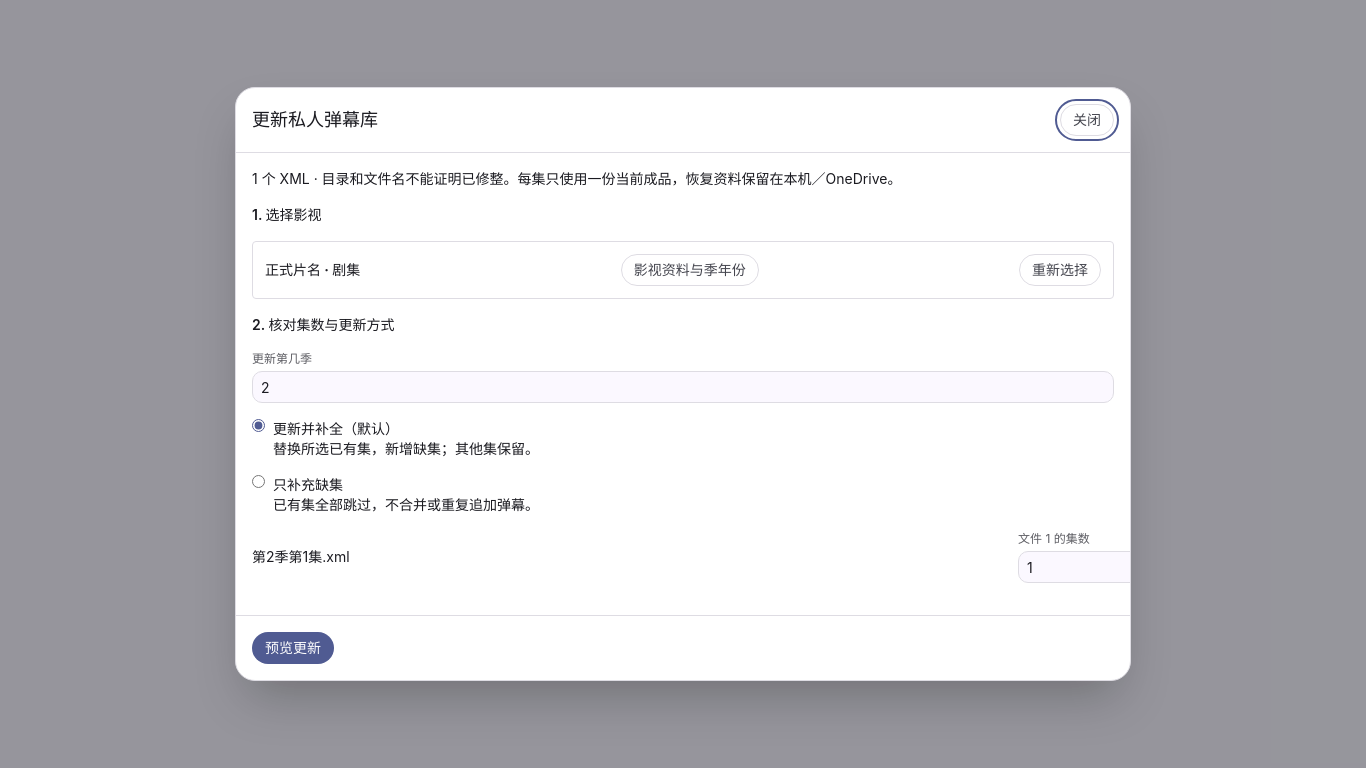
Test: previews replacement and requires an explicit content check before storing and listing the same episode
Click the button "预览更新": (293, 648) [252,632,334,664]
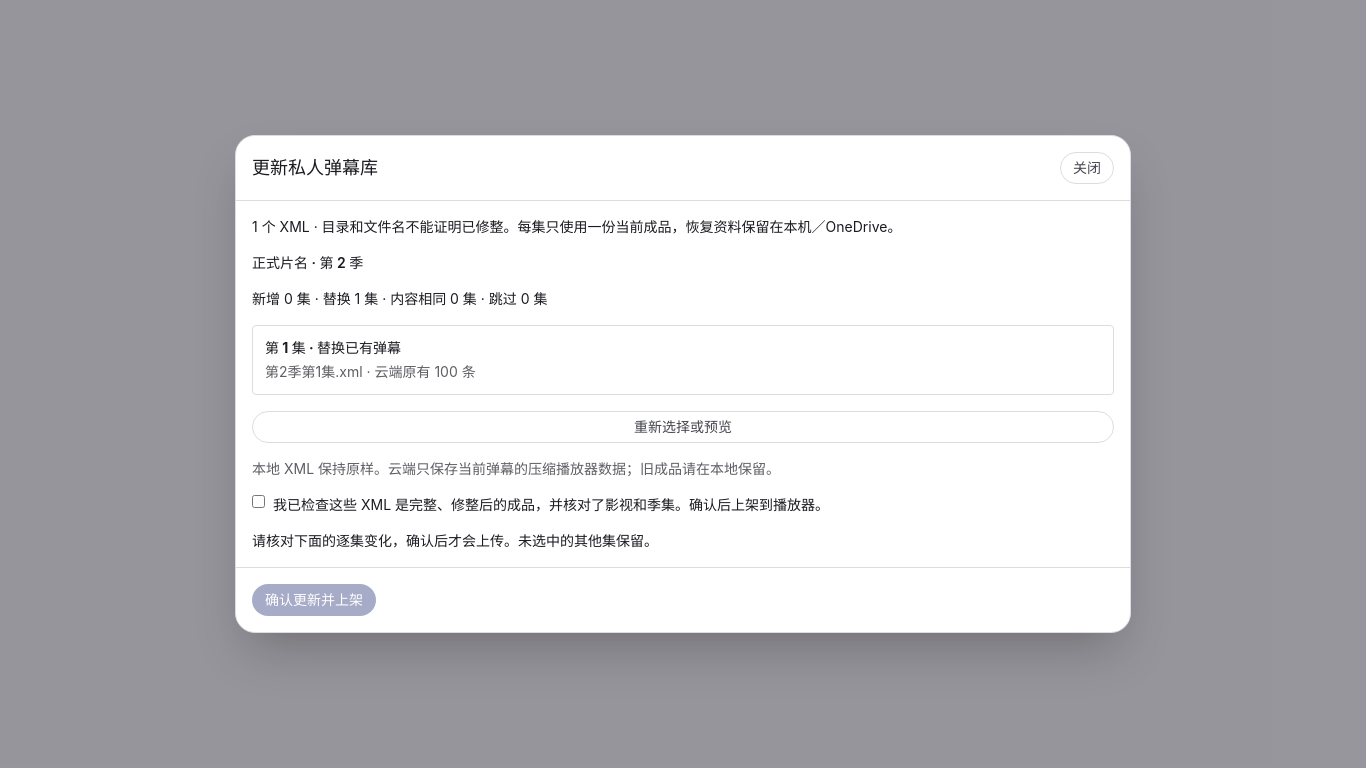
Result: the text "第 1 集 · 替换已有弹幕" is shown at [265,339,401,356]
Result: the button "确认更新并上架" is disabled at [252,584,376,616]
Click the checkbox: (258, 502) [252,495,265,508]
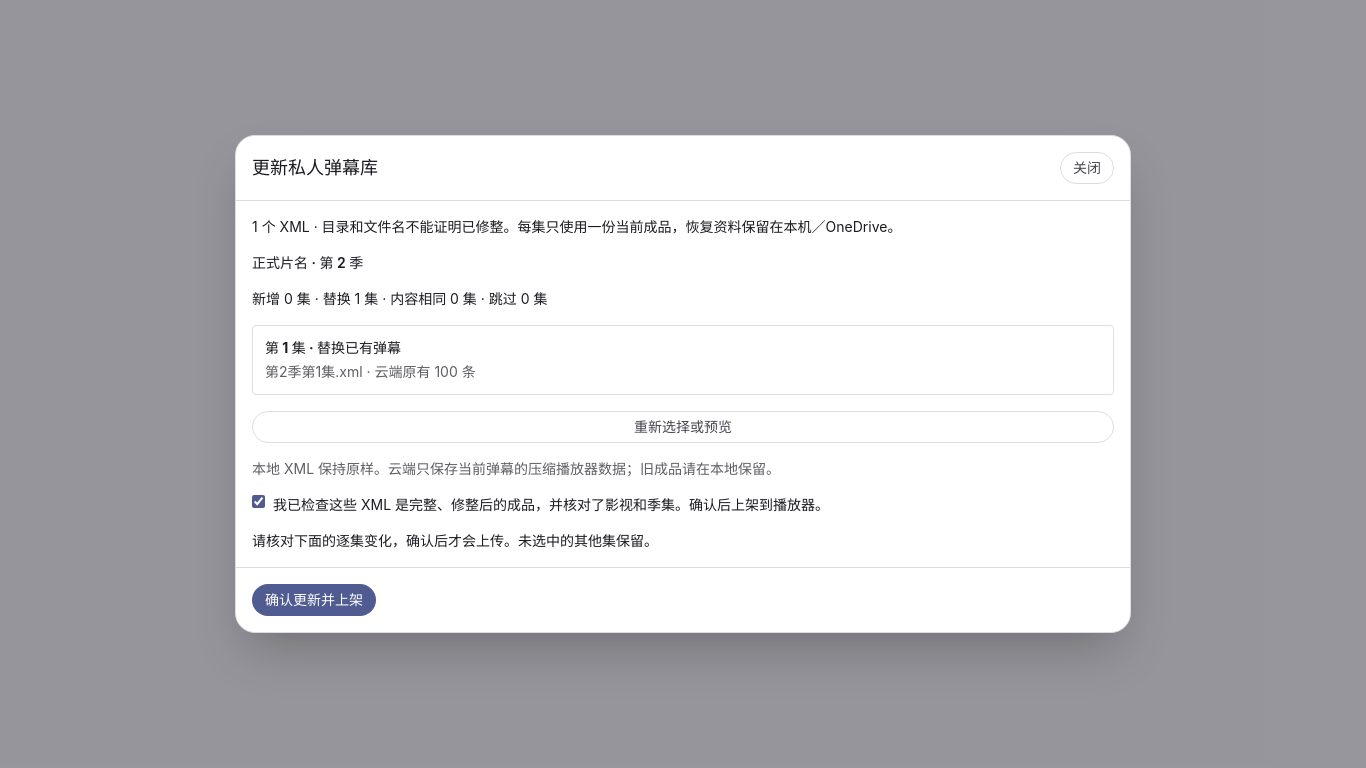
Click the button "确认更新并上架": (314, 600) [252,584,376,616]
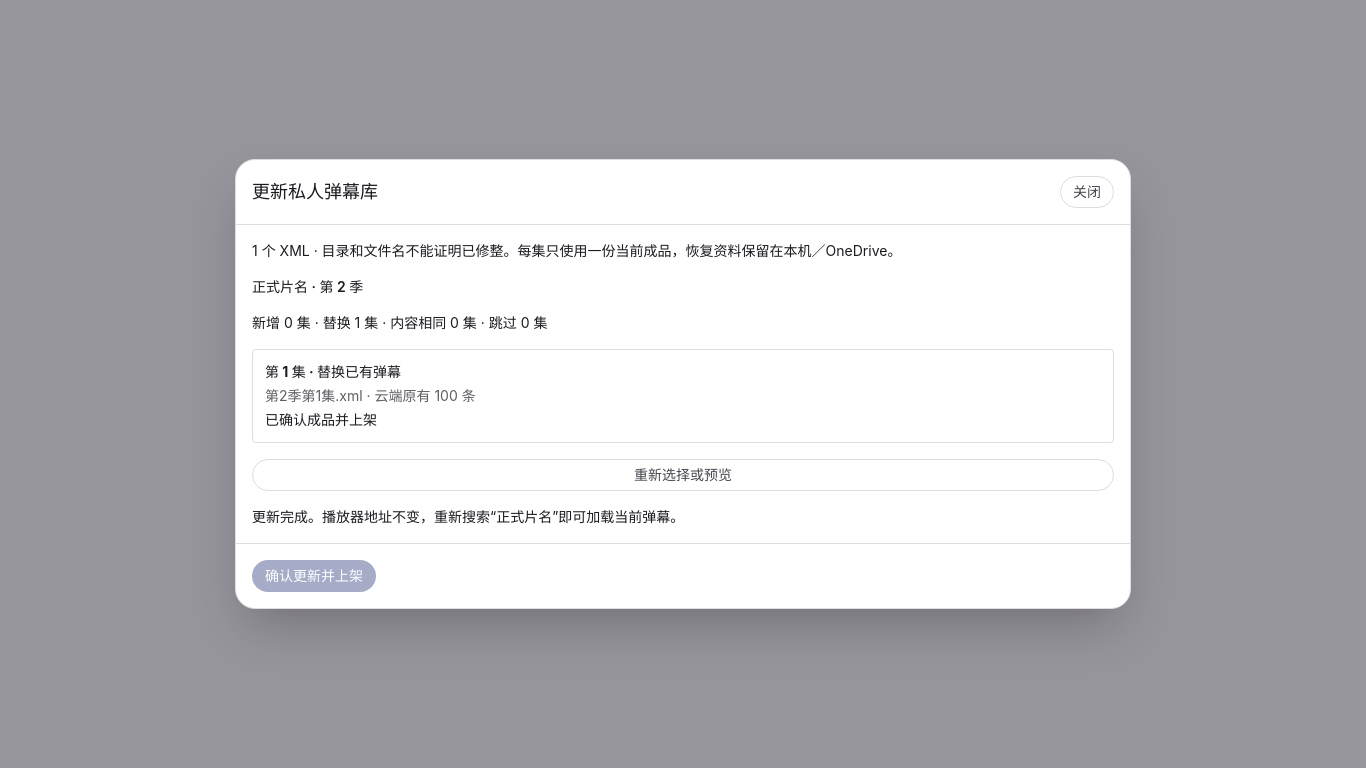
Result: the text "更新完成。播放器地址不变，重新搜索“正式片名”即可加载当前弹幕。" is shown at [252,508,684,525]
